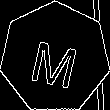M_N: (27, 28, 83, 88)
